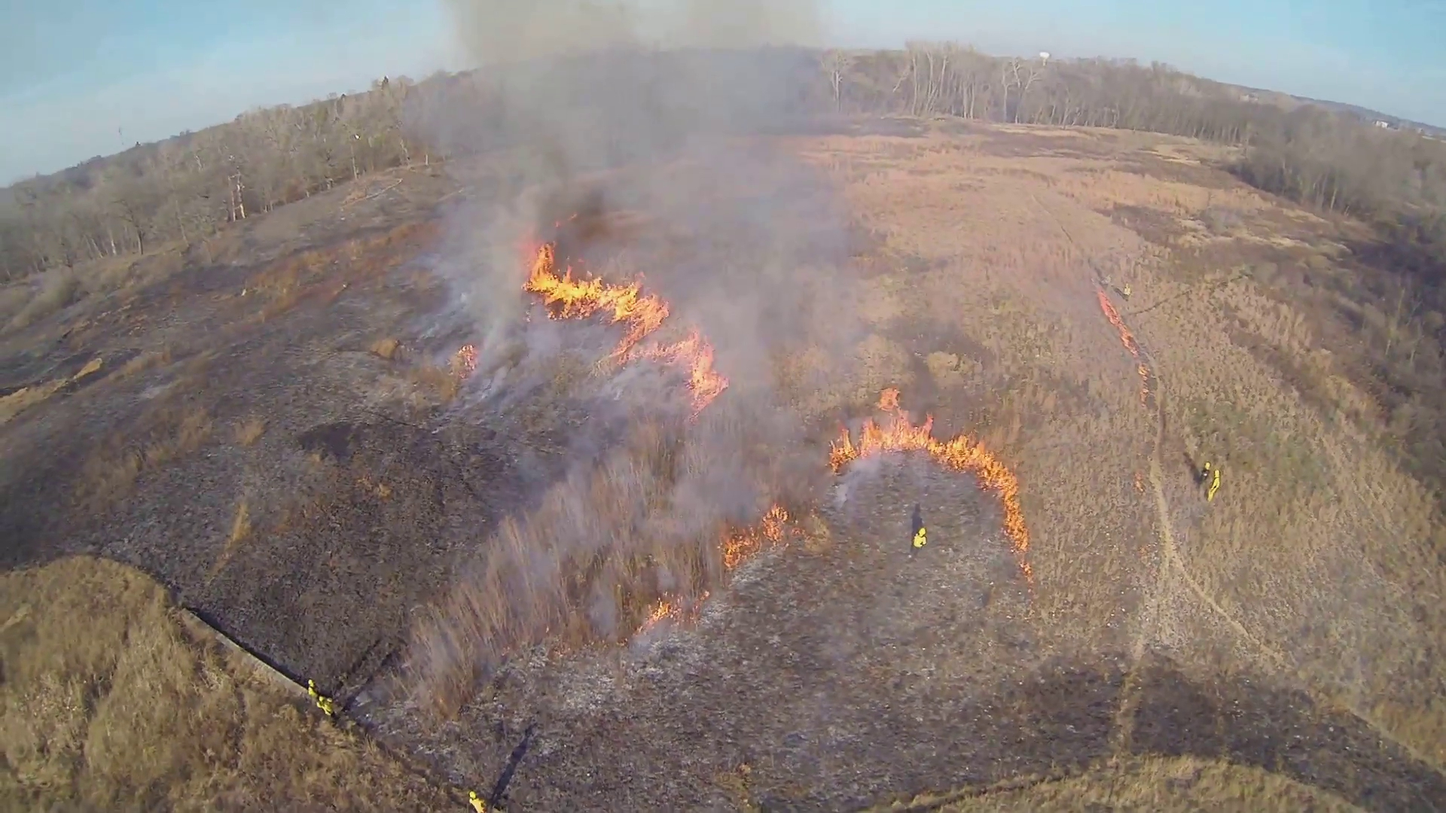forest_fire: (828, 388, 1032, 580), (523, 242, 728, 412), (1097, 291, 1152, 403), (721, 506, 789, 568)
